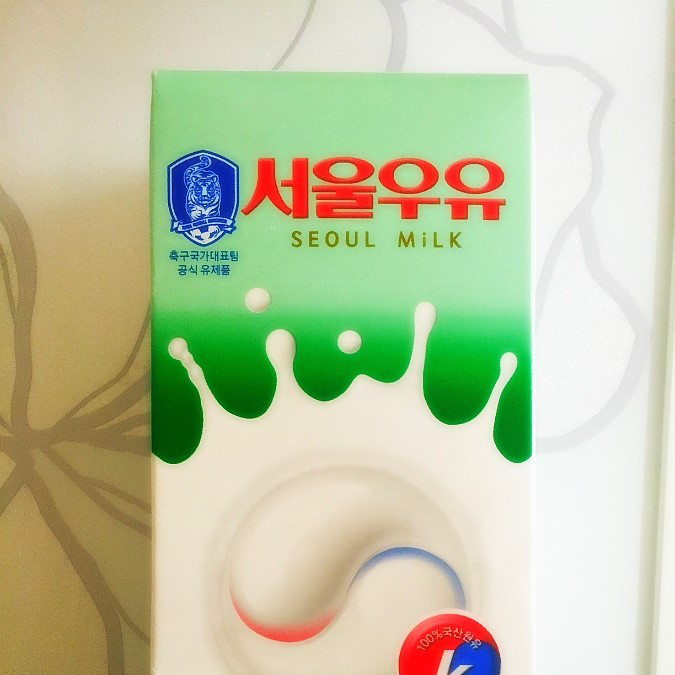milk: (148, 66, 533, 675)
